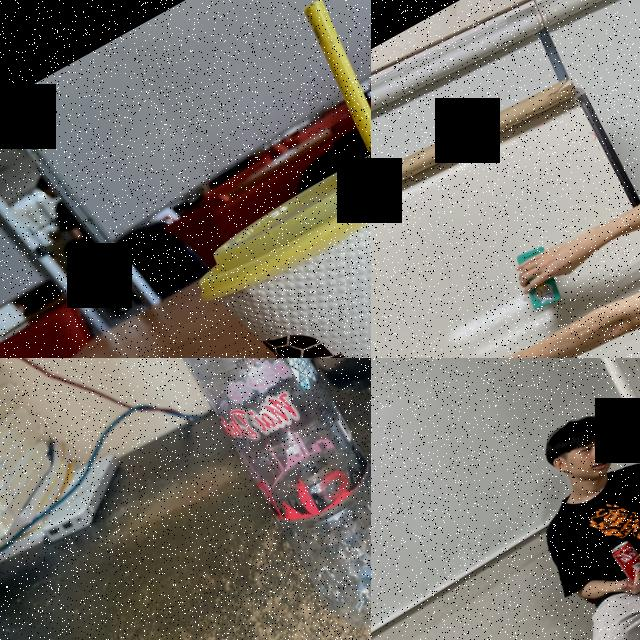bottle: (75, 358, 371, 640)
can: (609, 537, 640, 590)
cup: (176, 122, 371, 358)
